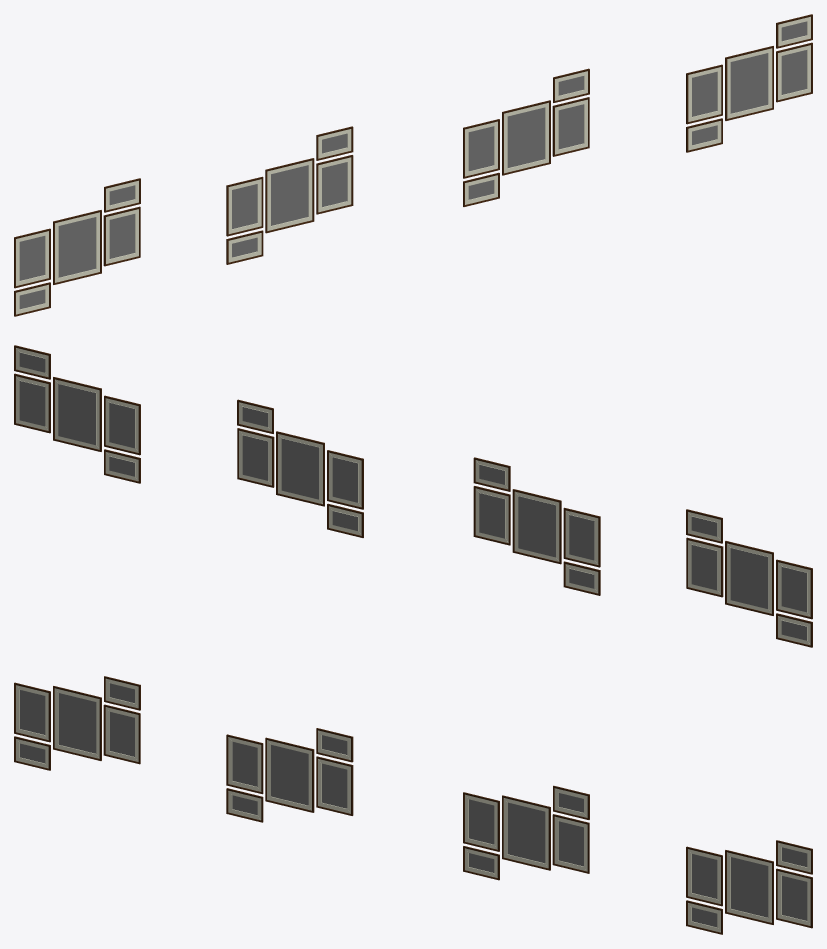
File: Arah_Leaf_Frame_Corona.fbx
3 views of the same model, one above another, from view 1: azimuth 30°, elevation 25°; view 2: azimuth 150°, elevation 25°; view 3: azimuth 330°, elevation 25° (orthographic).
Parts seen in each view (by area): view 1: Arah_Leaf_Frame_053, Arah_Leaf_Frame_012, Arah_Leaf_Frame_021, Arah_Leaf_Frame_037, Arah_Leaf_Frame_047, Arah_Leaf_Frame_009, Arah_Leaf_Frame_008, Arah_Leaf_Frame_031, Arah_Leaf_Frame_032, Arah_Leaf_Frame_064, Arah_Leaf_Frame_048, Arah_Leaf_Frame_063 (+14 smaller); view 2: Arah_Leaf_Frame_037, Arah_Leaf_Frame_012, Arah_Leaf_Frame_021, Arah_Leaf_Frame_053, Arah_Leaf_Frame_047, Arah_Leaf_Frame_063, Arah_Leaf_Frame_008, Arah_Leaf_Frame_031, Arah_Leaf_Frame_048, Arah_Leaf_Frame_064, Arah_Leaf_Frame_032, Arah_Leaf_Frame_009 (+14 smaller); view 3: Arah_Leaf_Frame_012, Arah_Leaf_Frame_037, Arah_Leaf_Frame_021, Arah_Leaf_Frame_053, Arah_Leaf_Frame_032, Arah_Leaf_Frame_063, Arah_Leaf_Frame_008, Arah_Leaf_Frame_031, Arah_Leaf_Frame_064, Arah_Leaf_Frame_009, Arah_Leaf_Frame_047, Arah_Leaf_Frame_048 (+19 smaller).
Boxes of the visible parts, box(x1,y1,x2,y2) form: Arah_Leaf_Frame_053: box(730, 53, 768, 113); Arah_Leaf_Frame_012: box(58, 217, 95, 277); Arah_Leaf_Frame_021: box(271, 165, 308, 225); Arah_Leaf_Frame_037: box(507, 107, 544, 167); Arah_Leaf_Frame_047: box(558, 104, 583, 149); Arah_Leaf_Frame_009: box(19, 236, 44, 280); Arah_Leaf_Frame_008: box(109, 214, 134, 258); Arah_Leaf_Frame_031: box(322, 162, 347, 207); Arah_Leaf_Frame_032: box(232, 184, 257, 228); Arah_Leaf_Frame_064: box(692, 72, 717, 116); Arah_Leaf_Frame_048: box(468, 126, 493, 171); Arah_Leaf_Frame_063: box(781, 50, 806, 94); Arah_Leaf_Frame_037: box(281, 438, 319, 499); Arah_Leaf_Frame_012: box(730, 548, 768, 608); Arah_Leaf_Frame_021: box(518, 496, 555, 557); Arah_Leaf_Frame_053: box(58, 384, 95, 445); Arah_Leaf_Frame_047: box(242, 435, 268, 480); Arah_Leaf_Frame_063: box(19, 381, 45, 426); Arah_Leaf_Frame_008: box(691, 545, 717, 590); Arah_Leaf_Frame_031: box(479, 493, 504, 538); Arah_Leaf_Frame_048: box(332, 457, 357, 502); Arah_Leaf_Frame_064: box(109, 402, 134, 448); Arah_Leaf_Frame_032: box(569, 515, 594, 560); Arah_Leaf_Frame_009: box(781, 567, 806, 612); Arah_Leaf_Frame_012: box(58, 693, 96, 753); Arah_Leaf_Frame_037: box(507, 802, 545, 863); Arah_Leaf_Frame_021: box(271, 745, 308, 805); Arah_Leaf_Frame_053: box(731, 857, 768, 917); Arah_Leaf_Frame_032: box(232, 741, 257, 786); Arah_Leaf_Frame_063: box(782, 876, 807, 920); Arah_Leaf_Frame_008: box(109, 712, 134, 756); Arah_Leaf_Frame_031: box(322, 763, 347, 808); Arah_Leaf_Frame_064: box(692, 854, 717, 898); Arah_Leaf_Frame_009: box(20, 690, 45, 734); Arah_Leaf_Frame_047: box(558, 821, 583, 866); Arah_Leaf_Frame_048: box(469, 799, 494, 844).
Size of the model in its own units: 529 by 68 by 0.9136.
